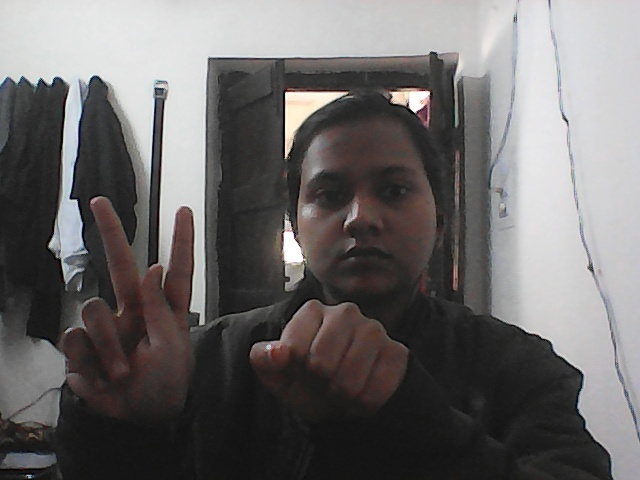OK: (42, 178, 460, 457)
